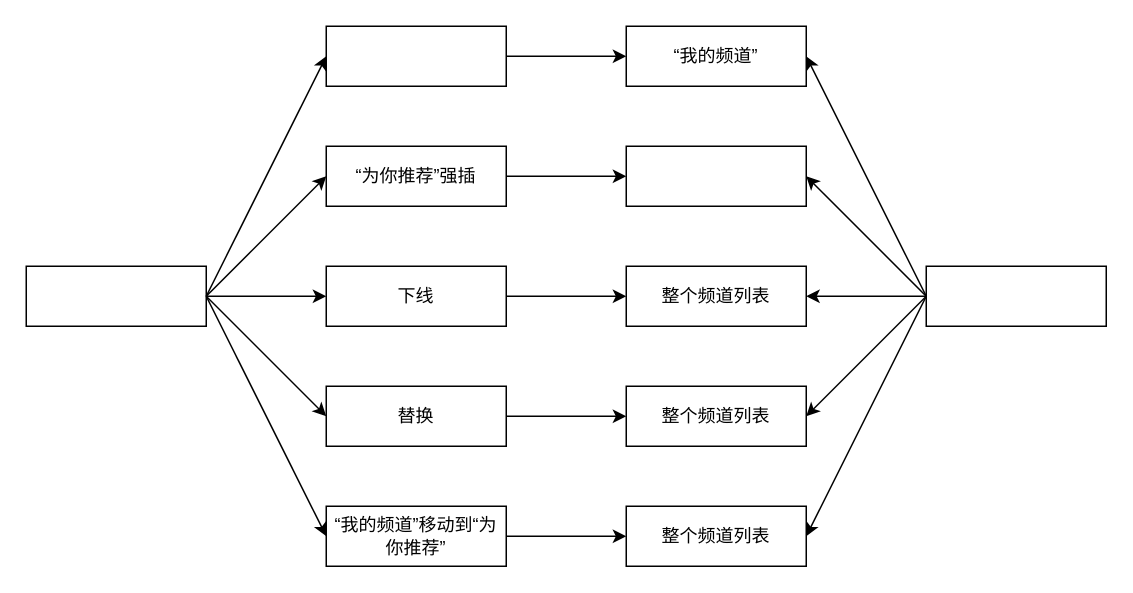
Some shapes in this 1133 by 593 pixel diagram are drawn without their labels. The shapes that lost their labels are listed below. From the top down, each one's centre as x and y in pixels, then its label:
At point 415,55: "“我的频道”强插".
At point 715,175: "“为你推荐”".
At point 115,295: "动作".
At point 1015,295: "影响".
